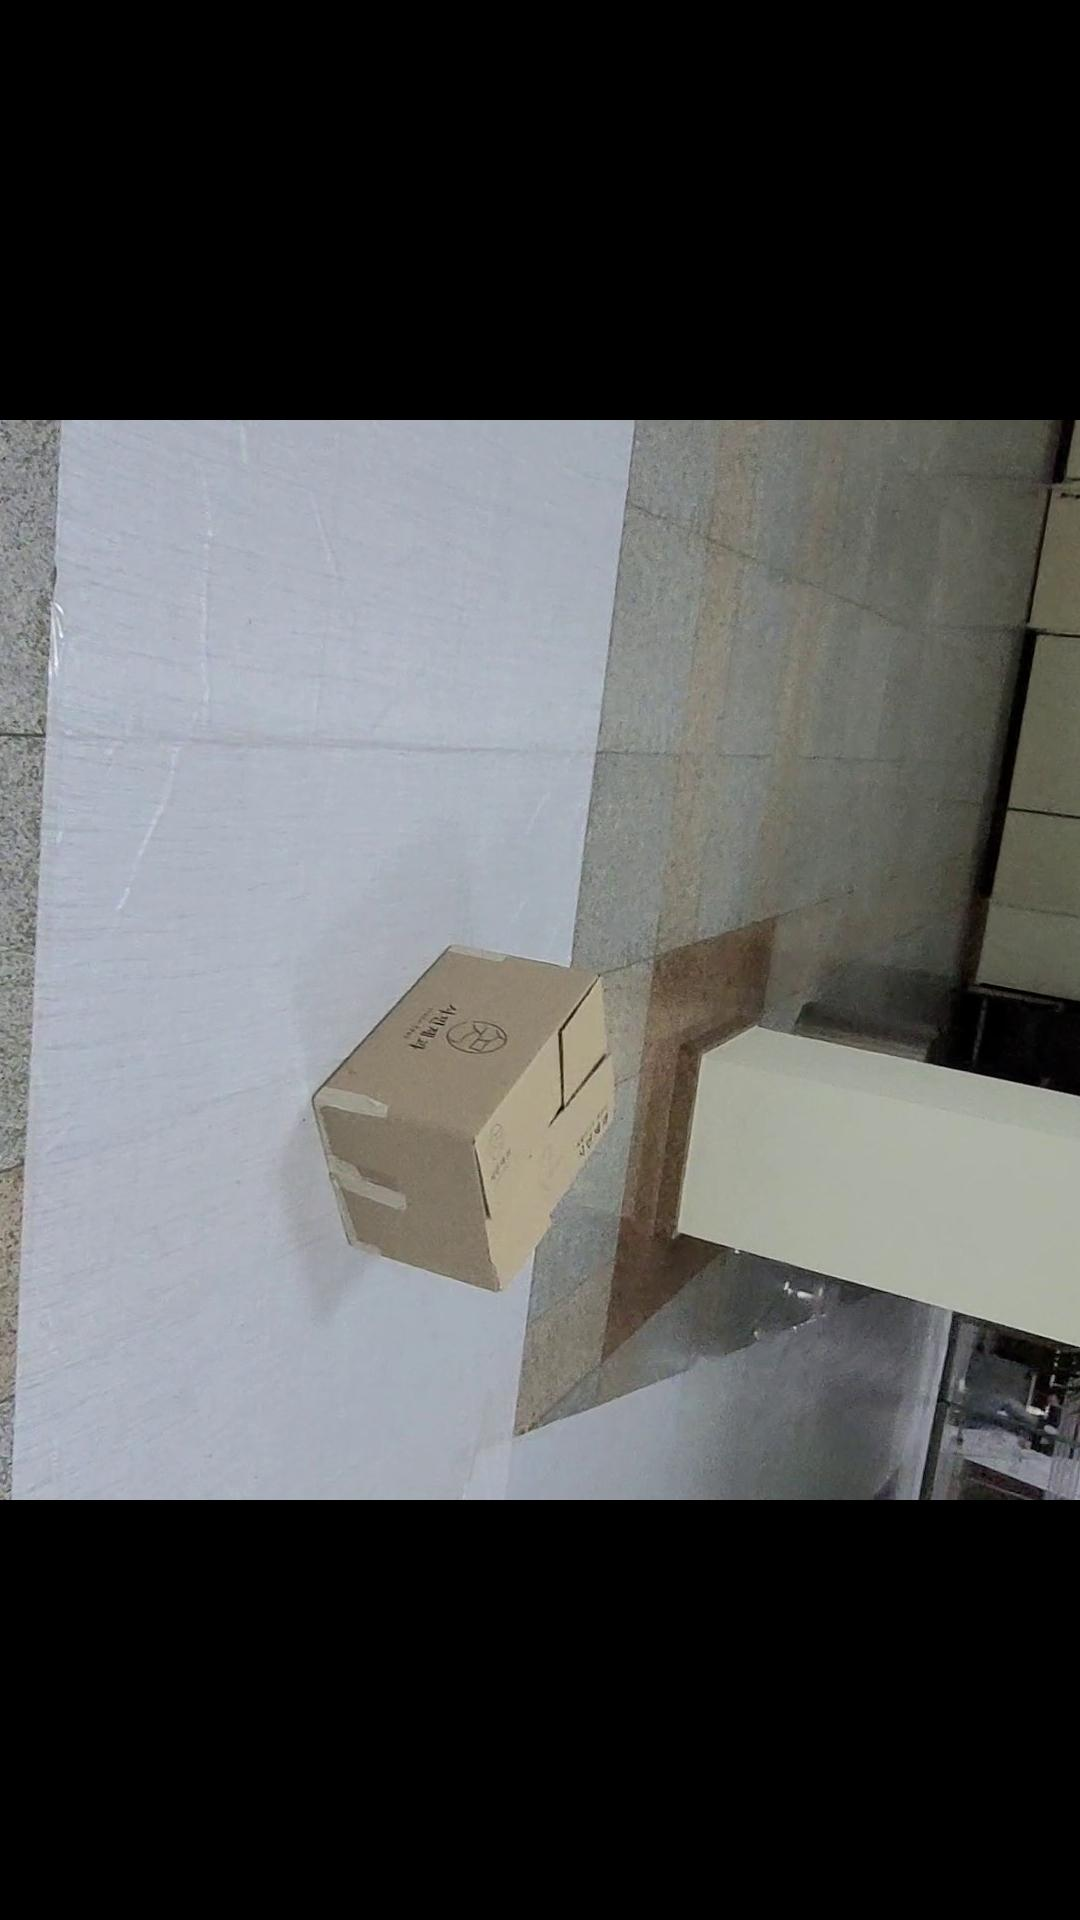Box: (301, 938, 636, 1304)
